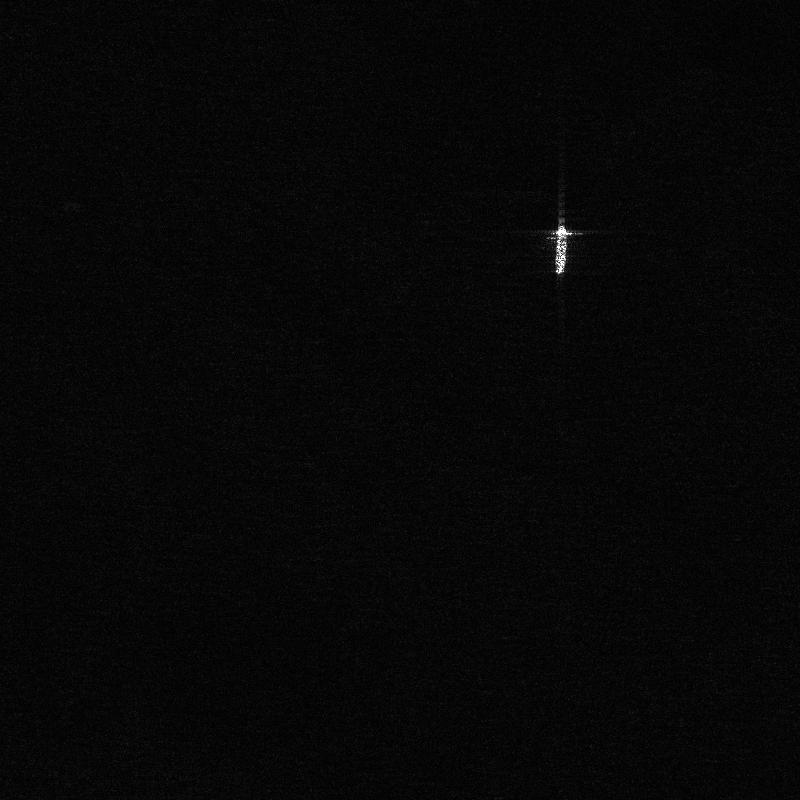ship: (555, 225, 567, 275)
